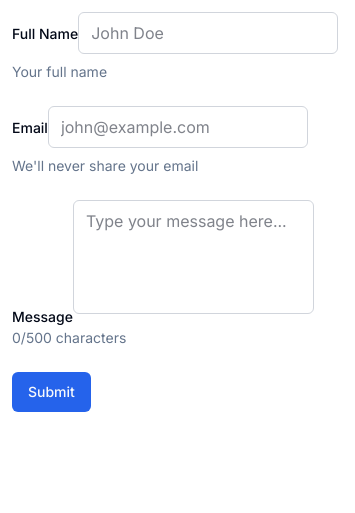
Test: FormComponent › shows validation errors for empty fields
Click the button "Submit" at (51, 392), box [12,372,91,412]
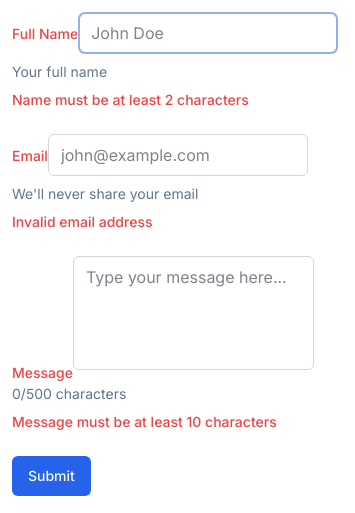
expect the text "Name must be at least 2 characters" is shown: met, box [12,91,249,108]
